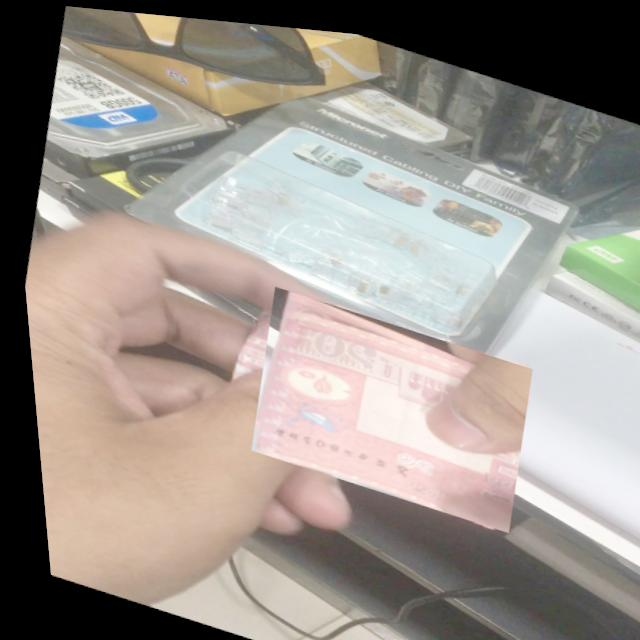Taka: (231, 278, 538, 526)
